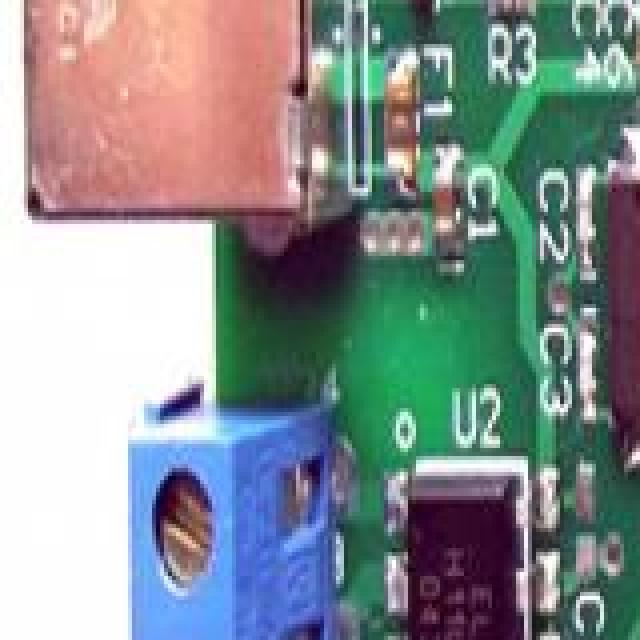IC: (388, 456, 552, 640)
capacitor: (436, 168, 462, 244), (580, 312, 594, 410), (580, 188, 596, 264), (636, 12, 640, 80)
clock: (608, 152, 640, 472)
connector: (27, 0, 367, 212), (130, 404, 331, 640)
inductor: (380, 76, 414, 178)
resistor: (488, 0, 532, 12)
transistor: (408, 0, 448, 4)
